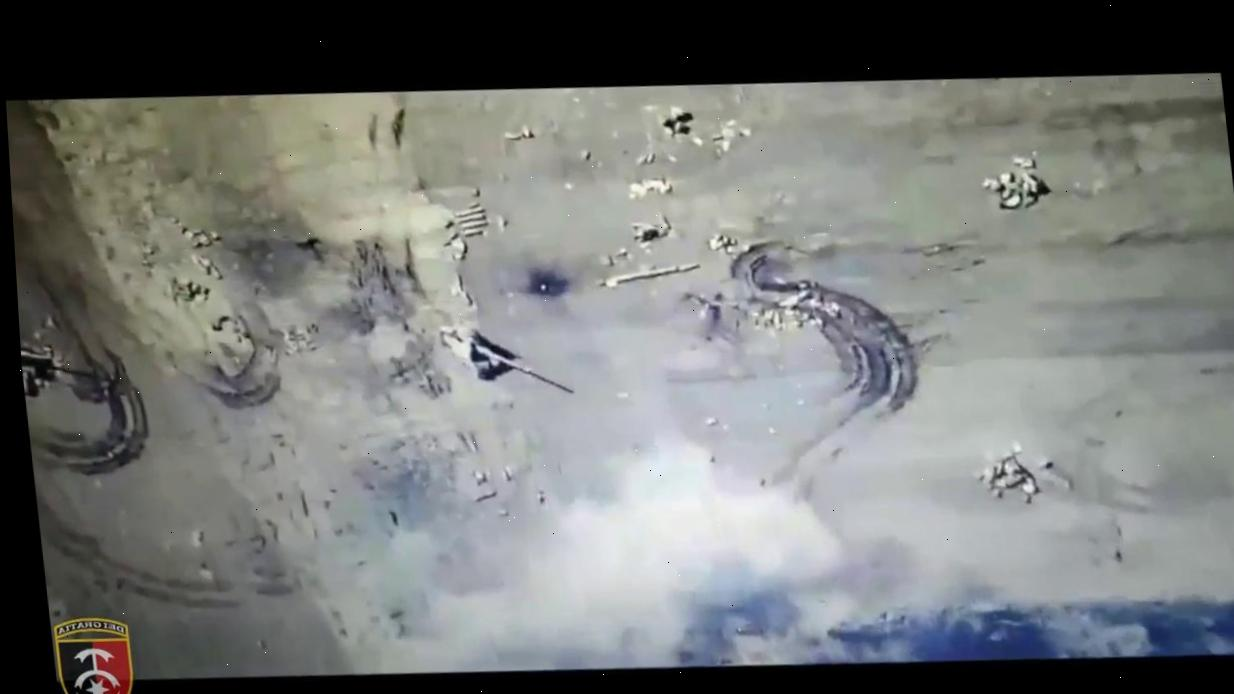sau: (438, 320, 573, 401), (19, 327, 66, 405)
